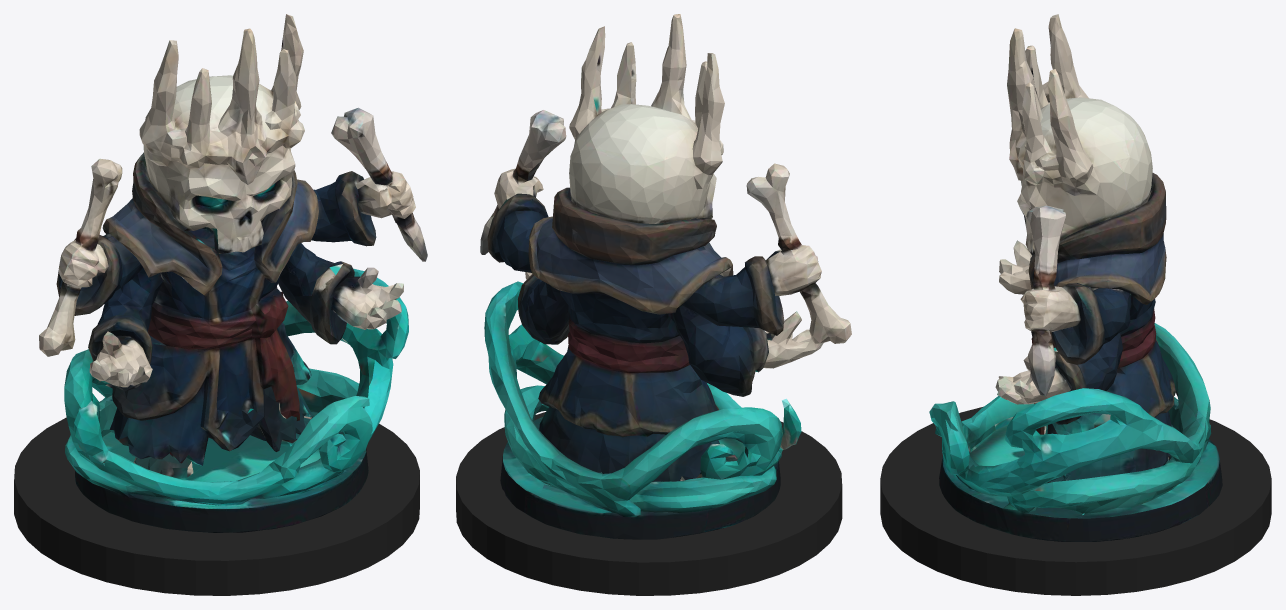
Rendered from obr-mortisan-ossifector.glb.
The picture shows the model from 3 angles, left to right: view 1: azimuth 30°, elevation 25°; view 2: azimuth 150°, elevation 25°; view 3: azimuth 270°, elevation 25°; orthographic projection. The views are drawn at different scales.
Visible parts, largest first — view 1: figure, base; view 2: figure, base; view 3: figure, base.
Part boxes in pixels (<box>): figure: <box>39,14,427,532</box>; base: <box>14,417,419,595</box>; figure: <box>480,14,851,539</box>; base: <box>456,412,842,595</box>; figure: <box>929,14,1222,541</box>; base: <box>880,406,1271,595</box>.
Bounding box in the file's own units: 1.38 × 1.72 × 1.26.
2 materials, 1 textured.
